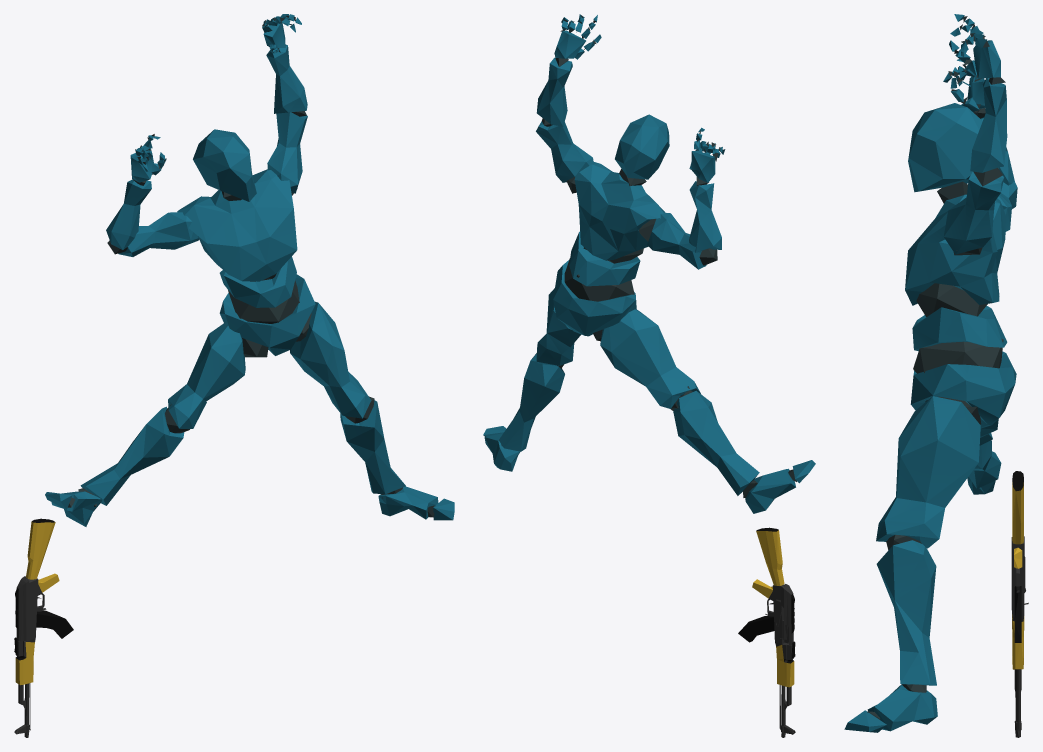
File: EnemyDying_000119.obj
3 renders of one model, left to right at view 1: azimuth 30°, elevation 25°; view 2: azimuth 150°, elevation 25°; view 3: azimuth 270°, elevation 25°, orthographic. The views are drawn at different scales.
Parts seen in each view (by area): view 1: Alpha_Surface, AK-47_Cube, Alpha_Joints; view 2: Alpha_Surface, AK-47_Cube, Alpha_Joints; view 3: Alpha_Surface, Alpha_Joints, AK-47_Cube.
Part boxes in pixels (<box>): Alpha_Surface: <box>45,14,454,526</box>; AK-47_Cube: <box>14,518,73,737</box>; Alpha_Joints: <box>68,15,434,517</box>; Alpha_Surface: <box>483,14,815,513</box>; AK-47_Cube: <box>738,527,795,737</box>; Alpha_Joints: <box>501,15,796,497</box>; Alpha_Surface: <box>844,14,1017,732</box>; Alpha_Joints: <box>867,16,1005,719</box>; AK-47_Cube: <box>1011,471,1028,737</box>.
Size of the model in its own units: 312 by 533 by 104.
